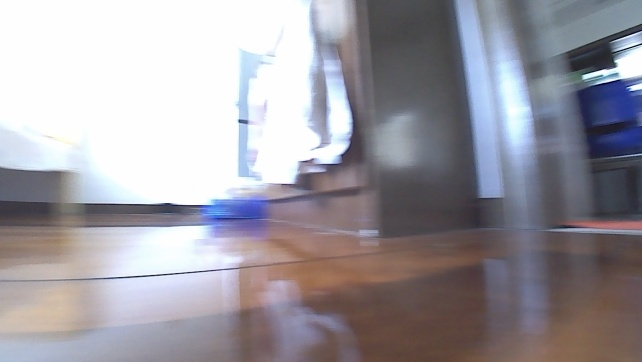blanket: (555, 219, 641, 230)
